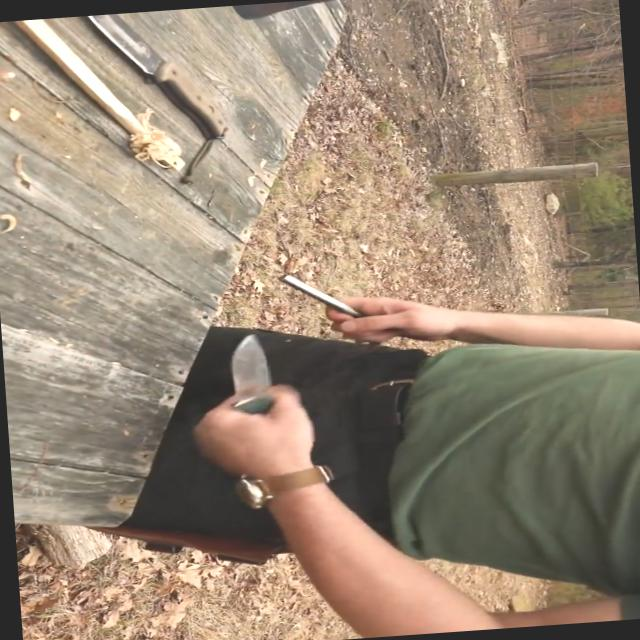knife: (188, 324, 318, 454)
